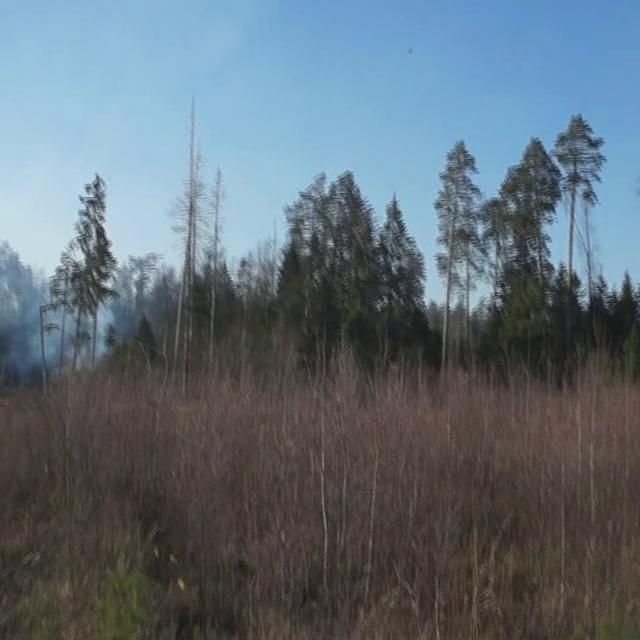Smoke: (1, 235, 153, 388)
